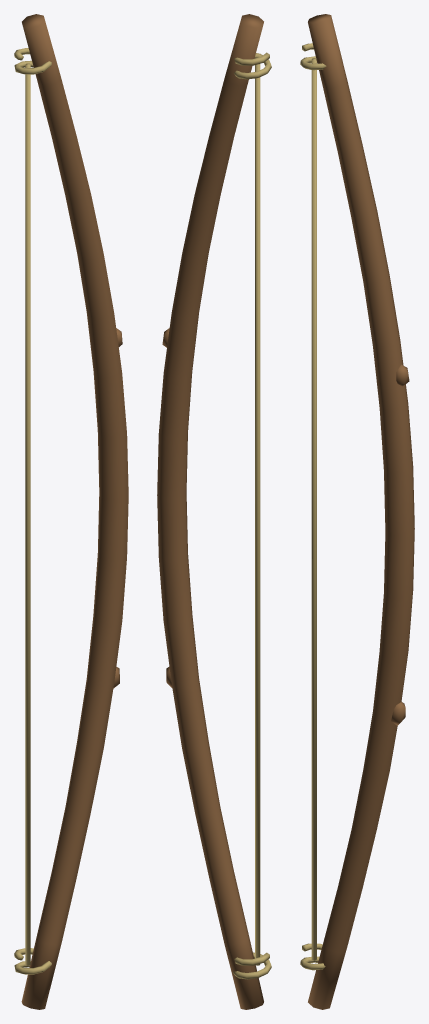
File: archet.glb
The picture shows the model from 3 angles, left to right: view 1: azimuth 30°, elevation 25°; view 2: azimuth 150°, elevation 25°; view 3: azimuth 330°, elevation 25°; orthographic projection.
Visible parts, largest first — view 1: Archet_reel; view 2: Archet_reel; view 3: Archet_reel.
Part boxes in pixels (box(x1,y1,x2,y2)): Archet_reel: box(14, 14, 128, 1009); Archet_reel: box(157, 14, 271, 1009); Archet_reel: box(300, 14, 414, 1009).
Bounding box in the file's own units: 0.082 × 0.7041 × 0.0251.
